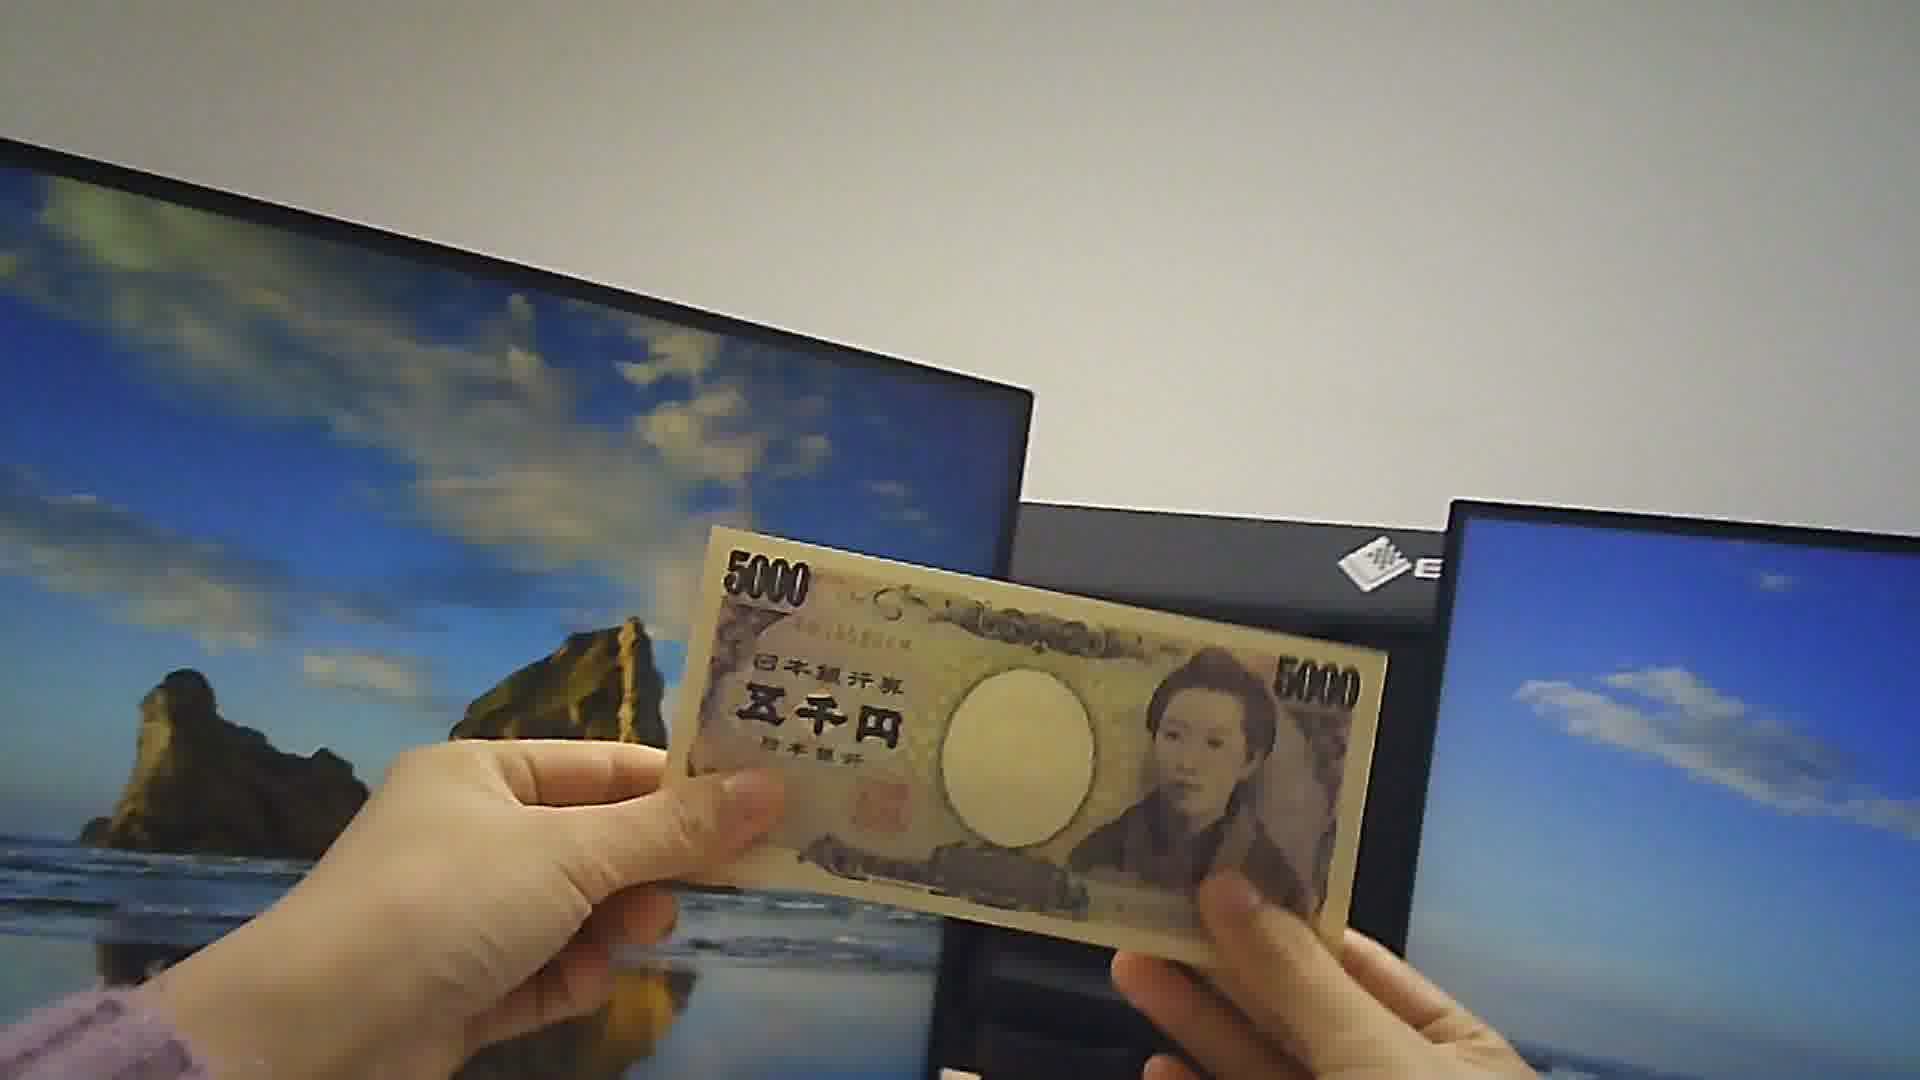5,000 Yen: (659, 522, 1375, 961)
